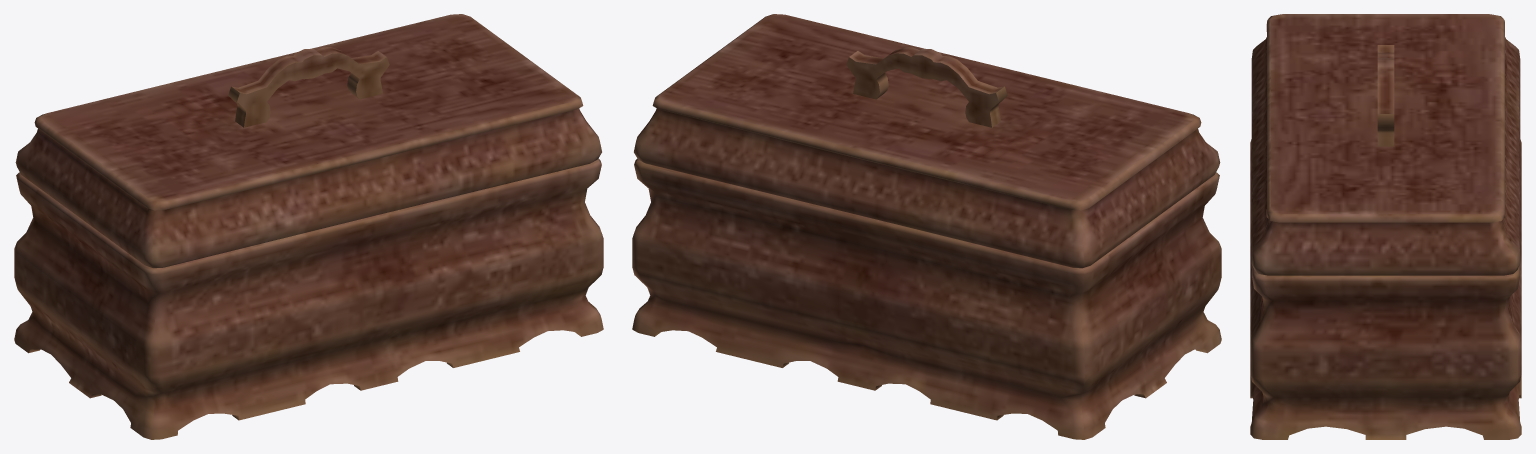
The model's file is SM_box_desk_6361d4.glb.
3 renders of one model, left to right at view 1: azimuth 30°, elevation 25°; view 2: azimuth 150°, elevation 25°; view 3: azimuth 270°, elevation 25°, orthographic. The views are drawn at different scales.
Bounding box in the file's own units: 0.3707 × 0.2178 × 0.1973.
Materials: 1 (1 with a texture image).
